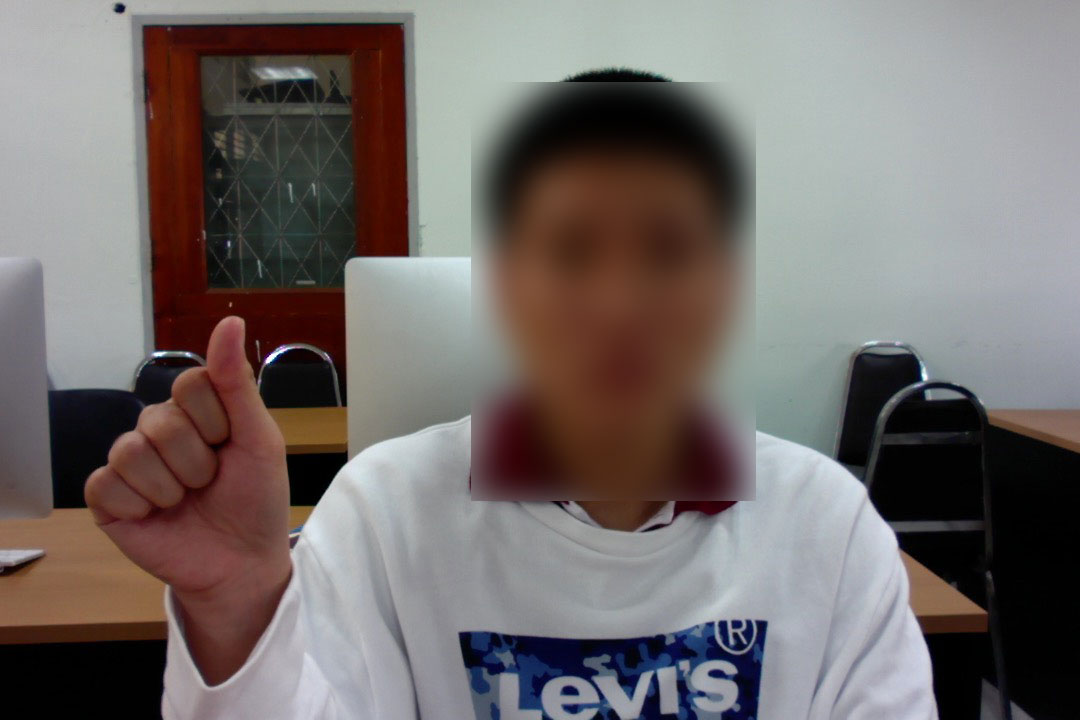or: (79, 311, 311, 589)
